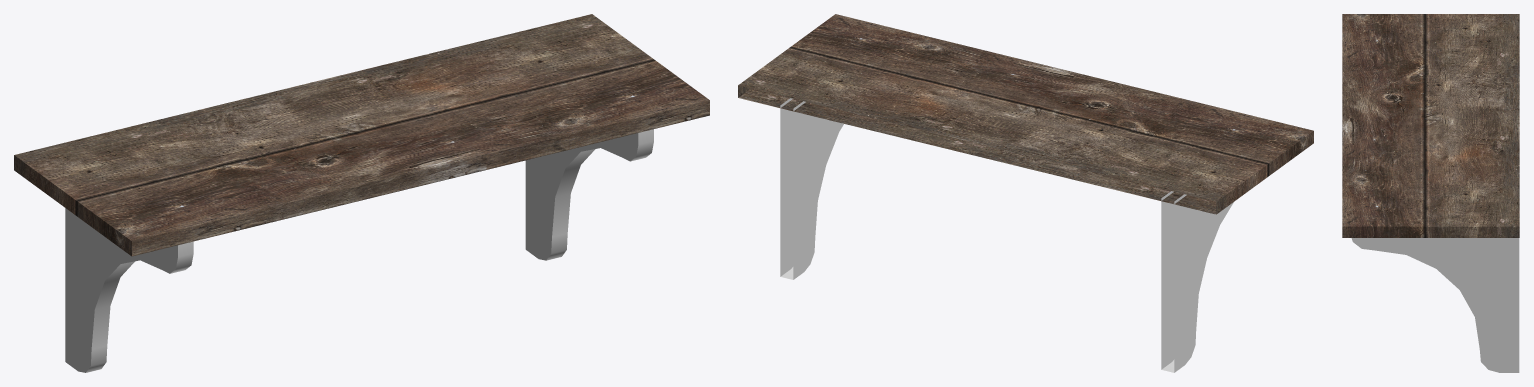
File: cupboard4.fbx
3 views of the same model, side by side, from view 1: azimuth 30°, elevation 25°; view 2: azimuth 150°, elevation 25°; view 3: azimuth 270°, elevation 25° (orthographic). The views are drawn at different scales.
Parts seen in each view (by area): view 1: polySurface436; view 2: polySurface436; view 3: polySurface436.
Boxes of the visible parts, left/top/right/bottom form: polySurface436: left=14, top=14, right=709, bottom=372; polySurface436: left=738, top=14, right=1313, bottom=372; polySurface436: left=1342, top=14, right=1519, bottom=372.
Bounding box in the file's own units: 1.11 × 0.4023 × 0.3917.
